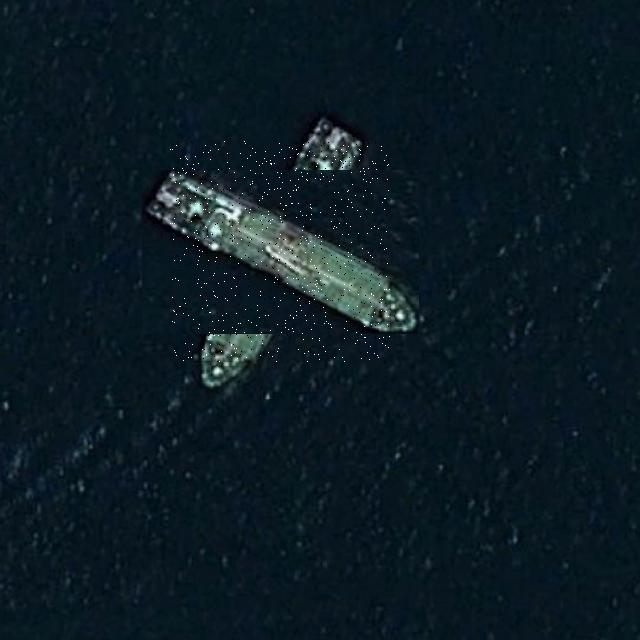boat: (170, 141, 391, 362)
